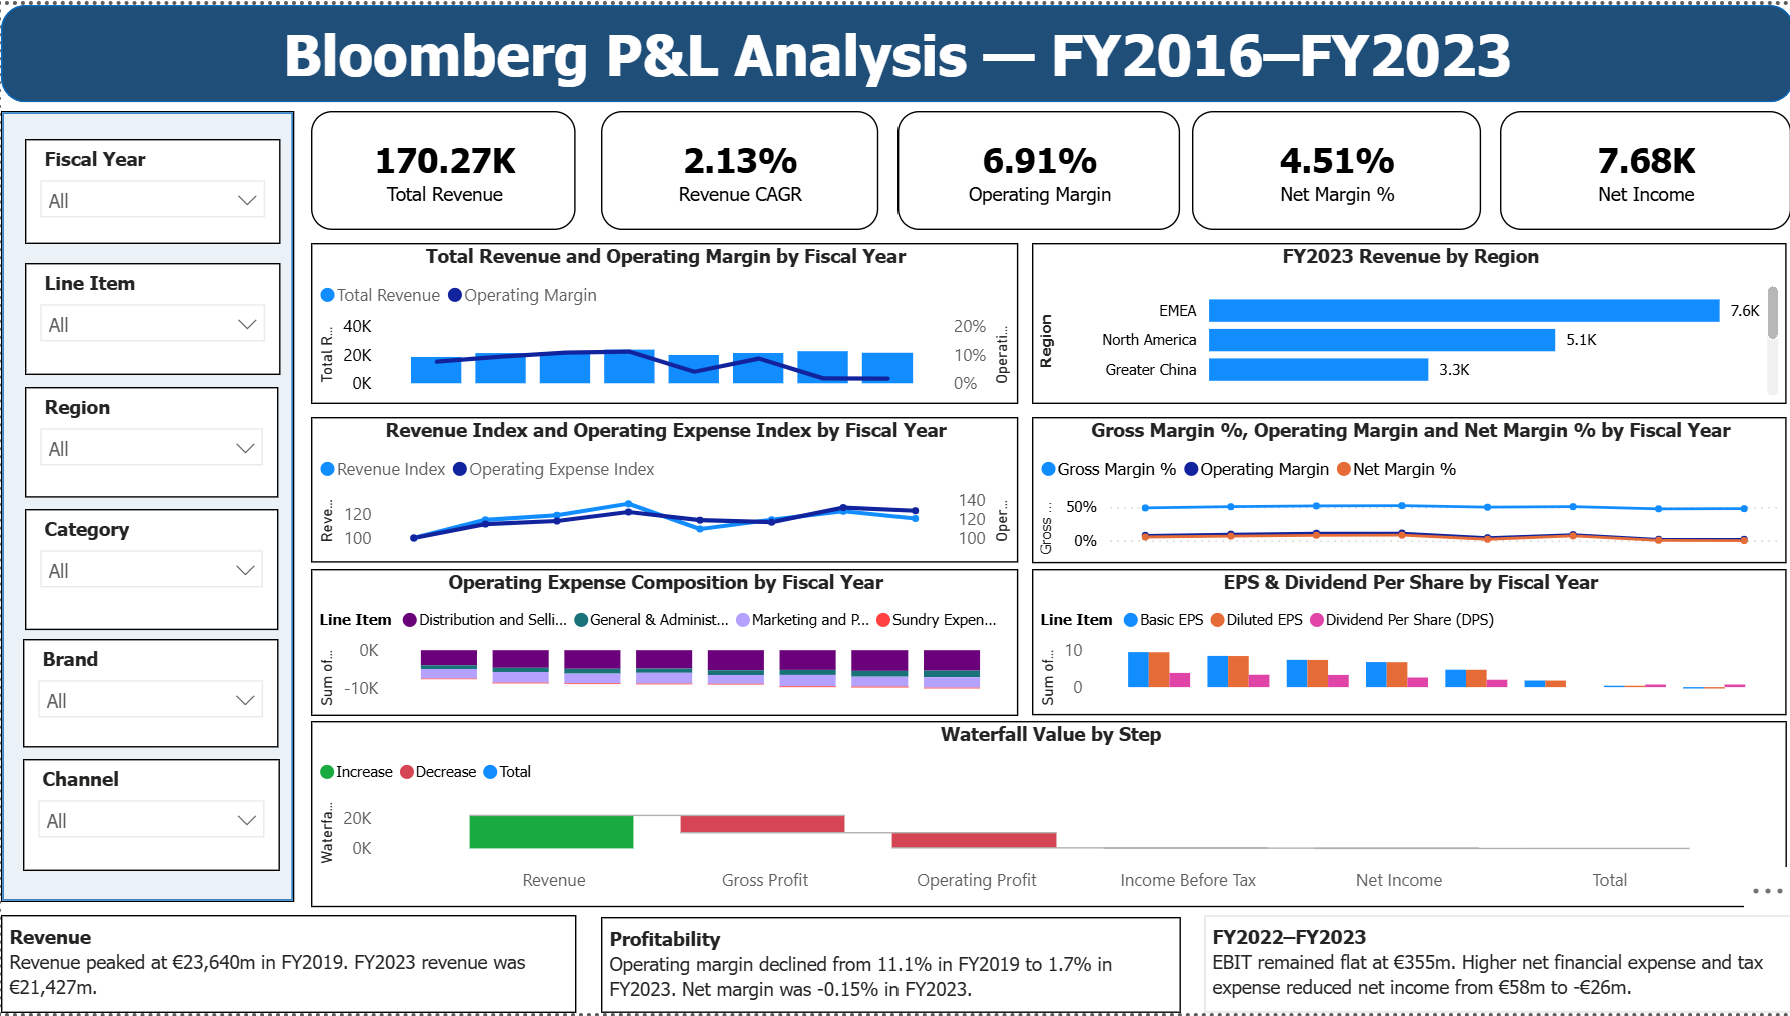

The dashboard page shown, as its layout file describes it:
{"tool":"powerbi","page":{"name":"P&L Dashboard","canvas":[1280,720],"ordinal":0},"visuals":[{"type":"shape","box":[0,0,1280,69.6],"z":0},{"type":"shape","box":[0,76.3,209.5,565],"z":1000},{"type":"slicer","fields":{"Values":["P&L Data.Fiscal Year"]},"box":[16.8,95.7,182.3,75],"z":2000},{"type":"slicer","fields":{"Values":["P&L Data.Line Item"]},"box":[16.8,184.9,182.3,80.2],"z":3000},{"type":"slicer","fields":{"Values":["Comparable Regional View.Region"]},"box":[16.8,272.8,181,78.9],"z":4000},{"type":"slicer","fields":{"Values":["Segment Category.Category"]},"box":[16.8,359.4,181,86.6],"z":5000},{"type":"slicer","fields":{"Values":["Segment Brand.Brand"]},"box":[15.5,452.5,182.3,77.6],"z":6000},{"type":"slicer","fields":{"Values":["Segment Channel.Channel"]},"box":[15.5,537.9,183.6,80.2],"z":7000},{"type":"cardVisual","fields":{"Data":["Measure Table 1.Total Revenue"]},"box":[221.6,76.4,189.1,85.1],"z":8000},{"type":"lineClusteredColumnComboChart","fields":{"Y":["Measure Table 1.Total Revenue"],"Y2":["Measure Table 1.Operating Margin"],"Category":["P&L Data.Fiscal Year"]},"box":[221.6,170.3,504.6,115.2],"z":9000},{"type":"lineChart","fields":{"Category":["P&L Data.Fiscal Year"],"Y":["Measure Table 1.Gross Margin %","Measure Table 1.Operating Margin","Measure Table 1.Net Margin %"]},"box":[735.7,294.8,539.2,104.7],"z":10000},{"type":"lineChart","fields":{"Y":["Measure Table 1.Revenue Index"],"Y2":["Measure Table 1.Operating Expense Index"],"Category":["P&L Data.Fiscal Year"]},"box":[221.6,294.3,504.6,103.9],"z":11000},{"type":"clusteredBarChart","title":"FY2023 Revenue by Region","fields":{"Category":["Comparable Regional View.Region"],"Y":["Sum(Comparable Regional View.Revenue)"]},"box":[735.7,170.7,539.2,115.1],"z":12000},{"type":"columnChart","title":"Operating Expense Composition by Fiscal Year","fields":{"Category":["P&L Data.Fiscal Year"],"Series":["P&L Data.Line Item"],"Y":["Sum(P&L Data.Value)"]},"box":[221.6,403.2,504.6,105.2],"z":13000},{"type":"lineClusteredColumnComboChart","title":"EPS & Dividend Per Share by Fiscal Year","fields":{"Category":["P&L Data.Fiscal Year"],"Y":["Sum(P&L Data.Value)"],"Series":["P&L Data.Line Item"]},"box":[735.7,403.4,539.2,104.7],"z":14000},{"type":"waterfallChart","fields":{"Category":["Waterfall Steps.Step"],"Y":["Measure Table 1.Waterfall Value"]},"box":[221.1,512,1053.7,133.2],"z":15000},{"type":"textbox","box":[0,650.3,411.2,69.8],"z":16000},{"type":"textbox","box":[428,651.6,413.7,68.5],"z":17000},{"type":"textbox","box":[858.5,650.3,421.5,69.8],"z":18000},{"type":"cardVisual","fields":{"Data":["Measure Table 1.Revenue CAGR"]},"box":[428.2,76.4,197.8,85.1],"z":19000},{"type":"cardVisual","fields":{"Data":["Measure Table 1.Operating Margin"]},"box":[639.9,76.4,201.6,85.1],"z":20000},{"type":"cardVisual","fields":{"Data":["Measure Table 1.Net Margin %"]},"box":[850.2,76.4,206.6,85.1],"z":21000},{"type":"cardVisual","fields":{"Data":["Measure Table 1.Net Income"]},"box":[1069.4,76.4,207.9,85.1],"z":22000}]}

Visuals, with their boxes in screenshot pixels (x1, y1, x2, y2), scaled from the page's 1280x720 canvas onto the 1790x1016 screenshot:
shape: region(0, 0, 1789, 98)
shape: region(0, 108, 293, 905)
slicer - P&L Data.Fiscal Year: region(23, 135, 278, 241)
slicer - P&L Data.Line Item: region(23, 261, 278, 374)
slicer - Comparable Regional View.Region: region(23, 385, 277, 496)
slicer - Segment Category.Category: region(23, 507, 277, 629)
slicer - Segment Brand.Brand: region(22, 639, 277, 748)
slicer - Segment Channel.Channel: region(22, 759, 278, 872)
cardVisual - Measure Table 1.Total Revenue: region(310, 108, 574, 228)
lineClusteredColumnComboChart - Measure Table 1.Total Revenue x Measure Table 1.Operating Margin: region(310, 240, 1016, 403)
lineChart - P&L Data.Fiscal Year x Measure Table 1.Gross Margin %: region(1029, 416, 1783, 564)
lineChart - Measure Table 1.Revenue Index x Measure Table 1.Operating Expense Index: region(310, 415, 1016, 562)
"FY2023 Revenue by Region" clusteredBarChart: region(1029, 241, 1783, 403)
"Operating Expense Composition by Fiscal Year" columnChart: region(310, 569, 1016, 717)
"EPS & Dividend Per Share by Fiscal Year" lineClusteredColumnComboChart: region(1029, 569, 1783, 717)
waterfallChart - Waterfall Steps.Step x Measure Table 1.Waterfall Value: region(309, 722, 1783, 910)
textbox: region(0, 918, 575, 1015)
textbox: region(599, 919, 1177, 1015)
textbox: region(1201, 918, 1789, 1015)
cardVisual - Measure Table 1.Revenue CAGR: region(599, 108, 875, 228)
cardVisual - Measure Table 1.Operating Margin: region(895, 108, 1177, 228)
cardVisual - Measure Table 1.Net Margin %: region(1189, 108, 1478, 228)
cardVisual - Measure Table 1.Net Income: region(1495, 108, 1786, 228)
